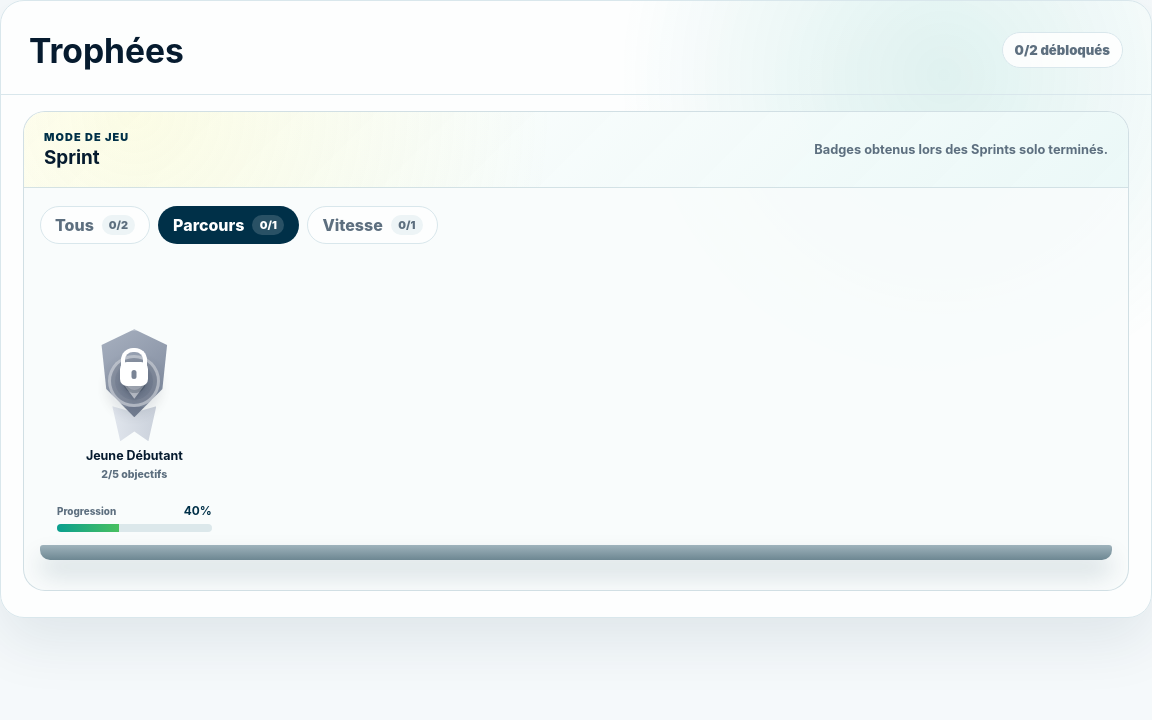
Test case: TrophyShelf › réaffiche toutes les familles lorsque le filtre Tous est sélectionné
Click the tab named "Vitesse0/1" at (373, 225), box 307,206 -> 438,244
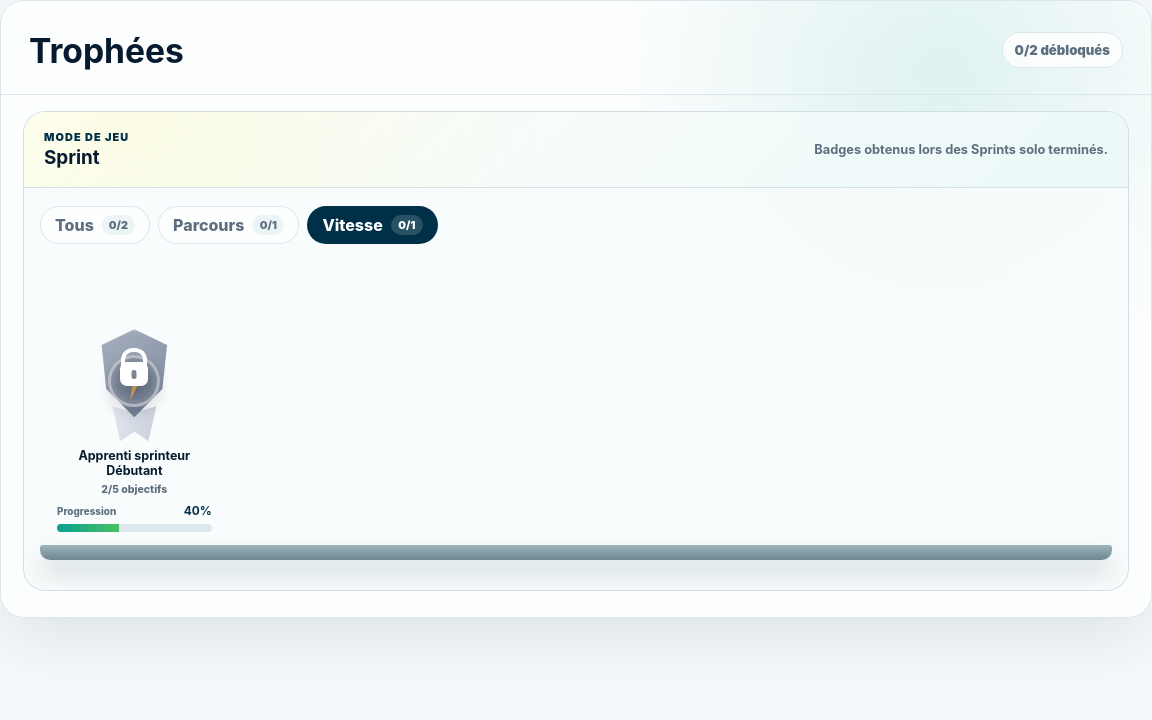
Now the button "Jeune Débutant" is gone
Click the tab named "Tous0/2" at (95, 225), box 40,206 -> 150,244
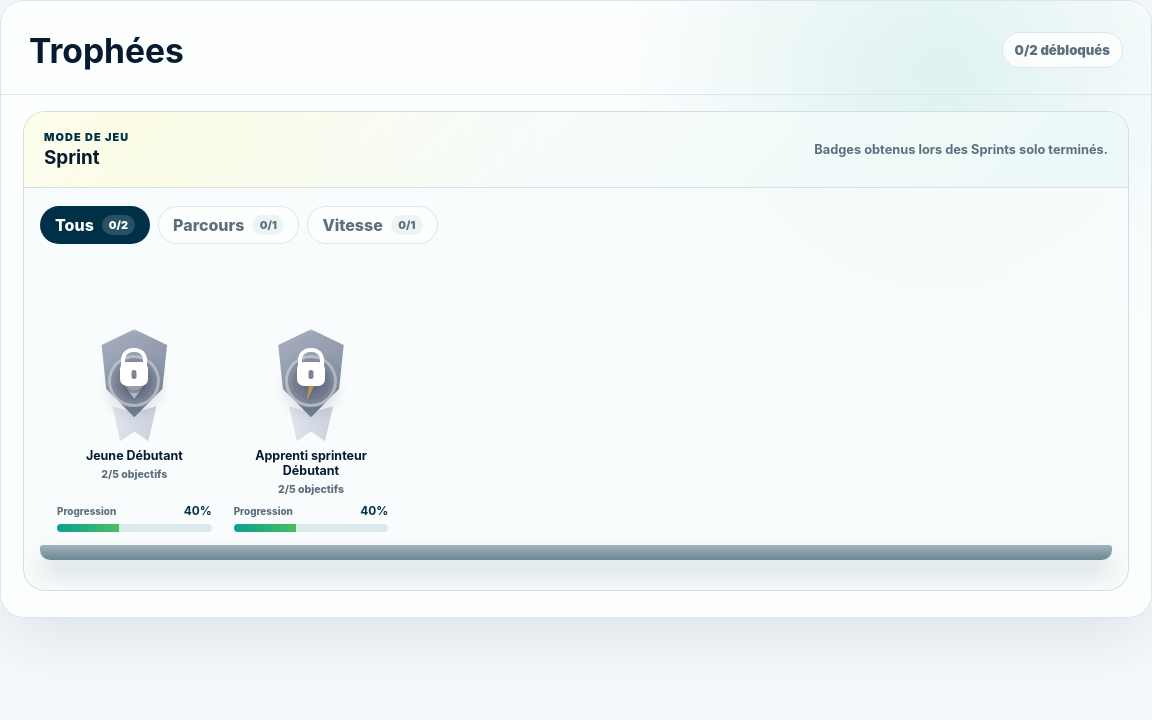
Now the button "Apprenti sprinteur Débutant" is shown, box 229,278 -> 393,540
Now the button "Parcours Jeune Débutant 2/5 objectifs Progression 40%" is shown, box 52,278 -> 217,540
